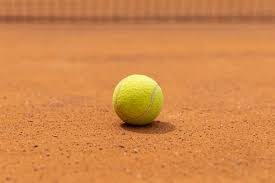tennis_ball: (112, 73, 163, 126)
